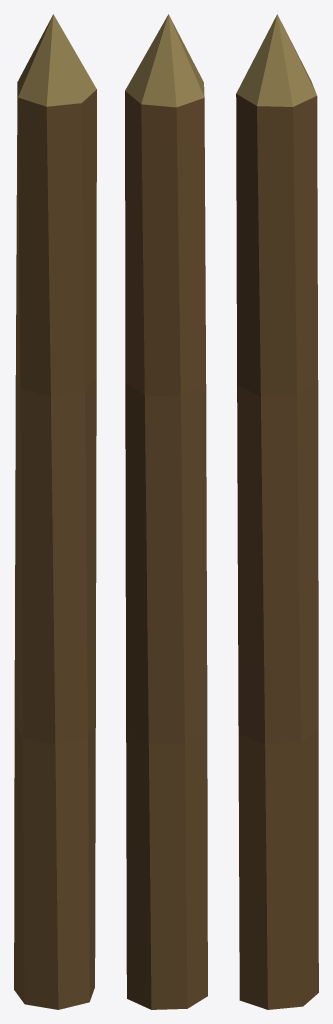
The model's file is single_sharp_palisade.fbx.
3 renders of one model, left to right at view 1: azimuth 30°, elevation 25°; view 2: azimuth 210°, elevation 25°; view 3: azimuth 270°, elevation 25°, orthographic.
Parts seen in each view (by area): view 1: Cylinder; view 2: Cylinder; view 3: Cylinder.
Part boxes in pixels (box(x1,y1,x2,y2)): Cylinder: box(14, 14, 96, 1009); Cylinder: box(125, 14, 207, 1009); Cylinder: box(236, 14, 318, 1009).
Size of the model in its own units: 72.35 by 950 by 72.81.
